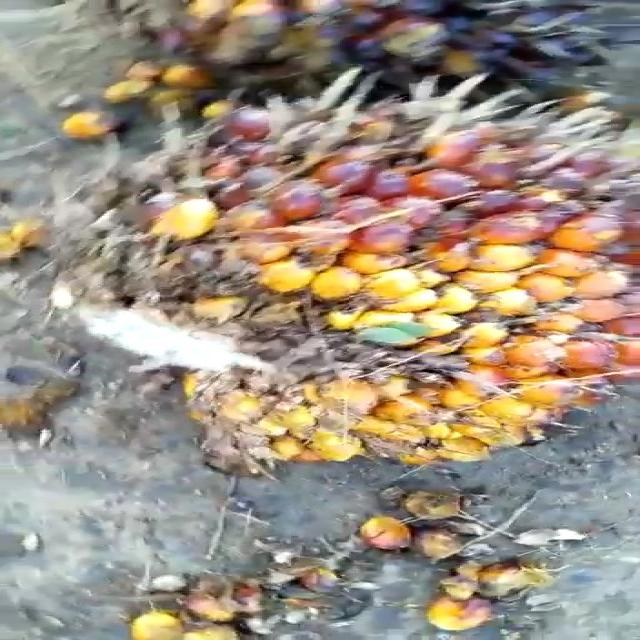palm oil: (85, 95, 640, 443)
